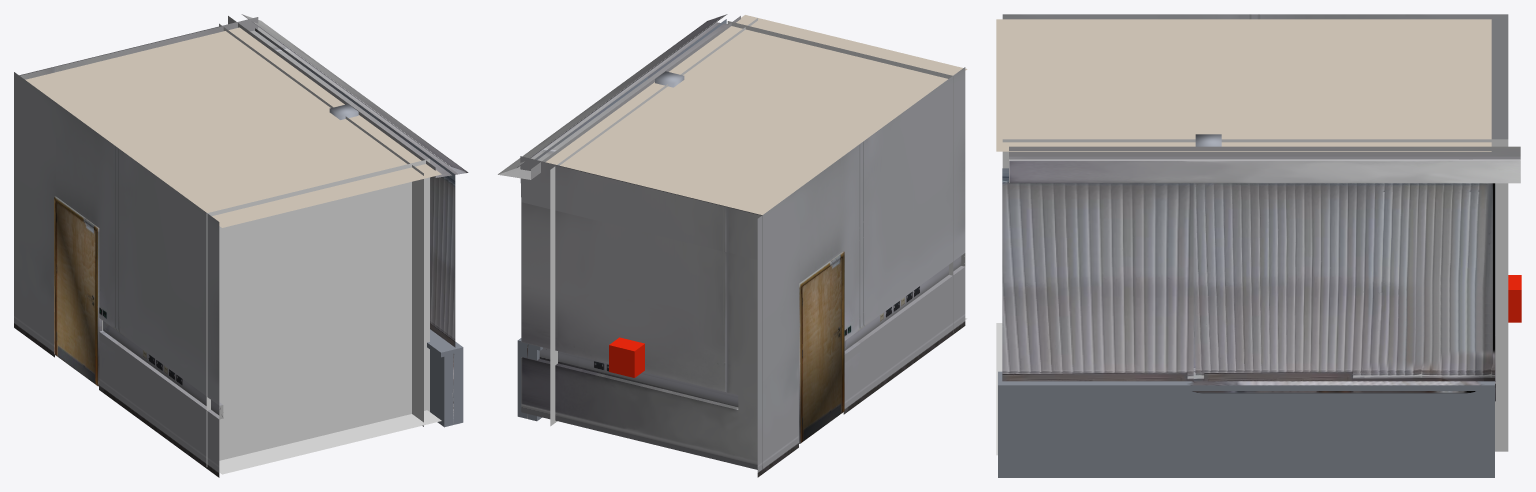
Rendered from physical escape room.fbx.
The picture shows the model from 3 angles, left to right: view 1: azimuth 30°, elevation 25°; view 2: azimuth 150°, elevation 25°; view 3: azimuth 270°, elevation 25°; orthographic projection. The views are drawn at different scales.
Parts seen in each view (by area): view 1: Sheet, Back_Wall, Ceiling, Door.003, Window, Top_Window, Window_Sheet, Floor, Bottom_Window, Left_Wall, DoorFrame.001; view 2: Left_Wall, Back_Wall, Ceiling, Door.003, Top_Window, Window_Sheet, DoorFrame.001, Sheet, Hatch.001, Bottom_Window, Window; view 3: Window, Ceiling, Bottom_Window, Top_Window, Window_Sheet, Back_Wall, Hatch.001.
Part boxes in pixels (left/top/right/bottom): Sheet: left=206, top=159, right=429, bottom=466; Back_Wall: left=14, top=72, right=223, bottom=477; Ceiling: left=25, top=27, right=441, bottom=227; Door.003: left=56, top=202, right=95, bottom=383; Window: left=255, top=28, right=455, bottom=347; Top_Window: left=228, top=14, right=468, bottom=177; Window_Sheet: left=219, top=23, right=423, bottom=426; Floor: left=219, top=410, right=441, bottom=474; Bottom_Window: left=427, top=329, right=463, bottom=427; Left_Wall: left=19, top=17, right=258, bottom=79; DoorFrame.001: left=54, top=195, right=101, bottom=386; Left_Wall: left=520, top=156, right=762, bottom=470; Back_Wall: left=757, top=67, right=965, bottom=477; Ceiling: left=545, top=15, right=967, bottom=214; Door.003: left=802, top=258, right=841, bottom=441; Top_Window: left=498, top=14, right=740, bottom=179; Window_Sheet: left=550, top=18, right=757, bottom=426; DoorFrame.001: left=799, top=251, right=844, bottom=443; Sheet: left=727, top=21, right=953, bottom=332; Hatch.001: left=609, top=337, right=644, bottom=377; Bottom_Window: left=517, top=338, right=542, bottom=421; Window: left=534, top=19, right=726, bottom=159; Window: left=1002, top=168, right=1495, bottom=387; Ceiling: left=996, top=19, right=1491, bottom=151; Bottom_Window: left=998, top=371, right=1494, bottom=477; Top_Window: left=1009, top=146, right=1520, bottom=183; Window_Sheet: left=1002, top=139, right=1508, bottom=451; Back_Wall: left=1002, top=14, right=1508, bottom=139; Hatch.001: left=1508, top=275, right=1521, bottom=322.
Bounding box in the file's own units: 703 × 686 × 1027.
